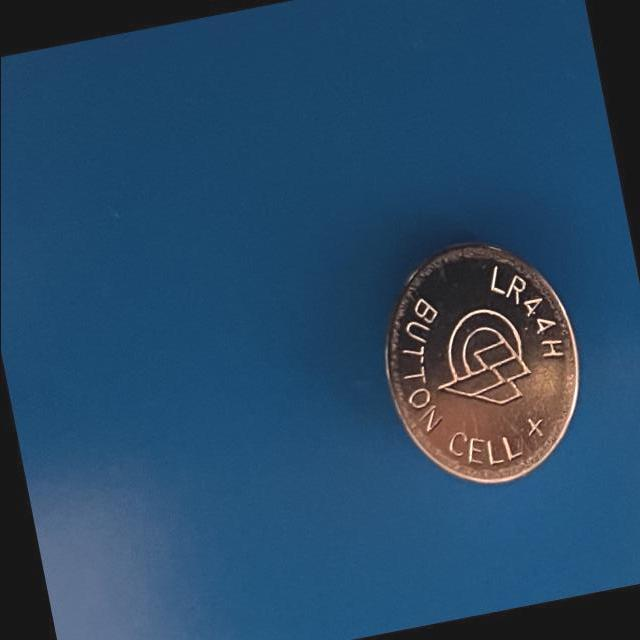COIN: (365, 228, 599, 498)
